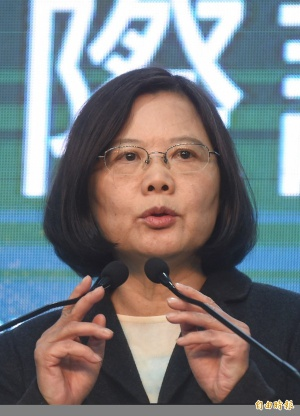female: (45, 69, 268, 282)
